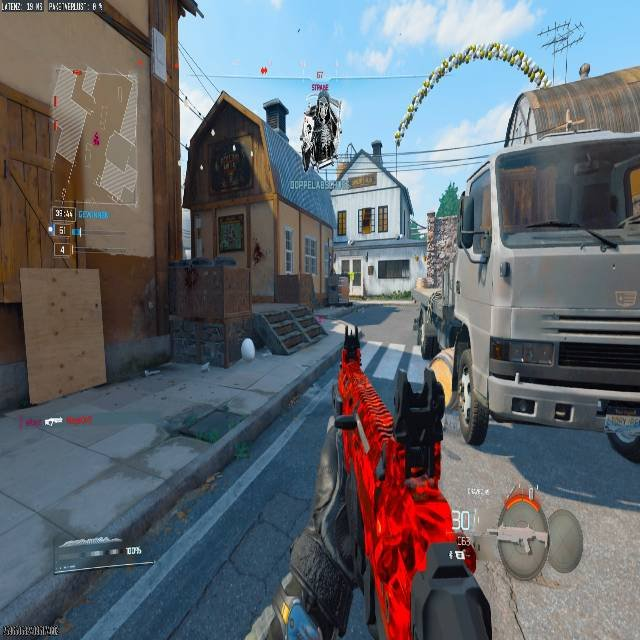player: (300, 88, 340, 169)
